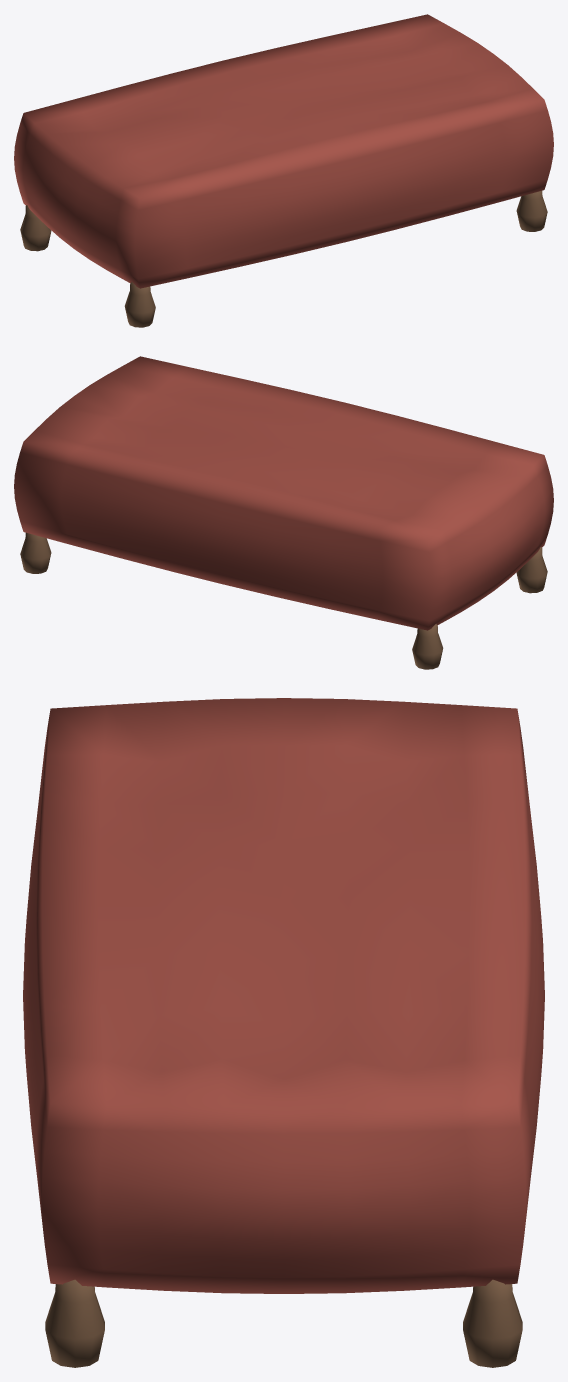
The model's file is ottoman.glb.
3 renders of one model, top to bottom at view 1: azimuth 30°, elevation 25°; view 2: azimuth 150°, elevation 25°; view 3: azimuth 270°, elevation 25°, orthographic. The views are drawn at different scales.
Parts seen in each view (by area): view 1: ottoman; view 2: ottoman; view 3: ottoman.
Part boxes in pixels (x1,y1,x2,y2): ottoman: (14, 14, 553, 327); ottoman: (14, 356, 553, 669); ottoman: (23, 698, 544, 1367).
Size of the model in its own units: 1.5 by 0.4262 by 0.75.
